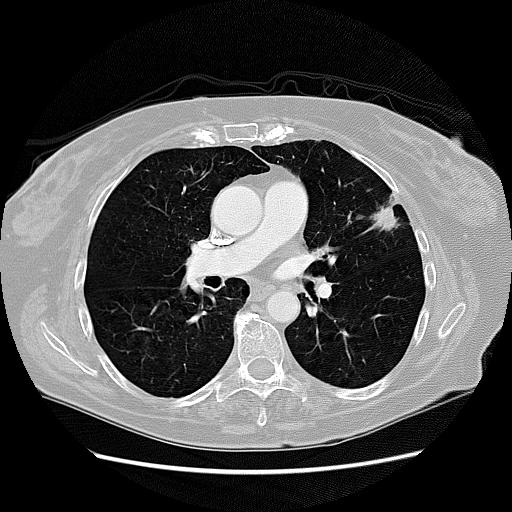nodule: (372, 201, 402, 231)
